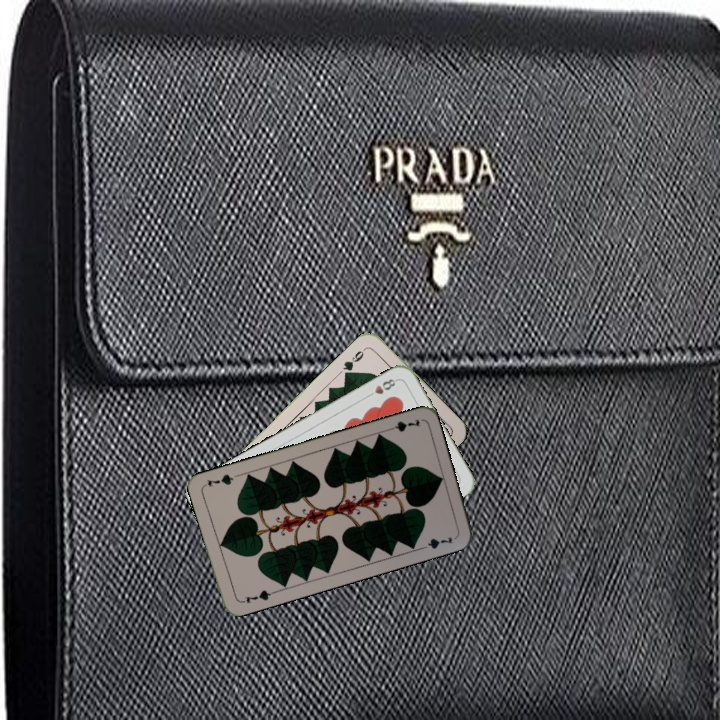G7: (382, 415, 423, 435), (237, 586, 277, 606)
G9: (339, 343, 370, 378)
H8: (363, 375, 400, 400)
